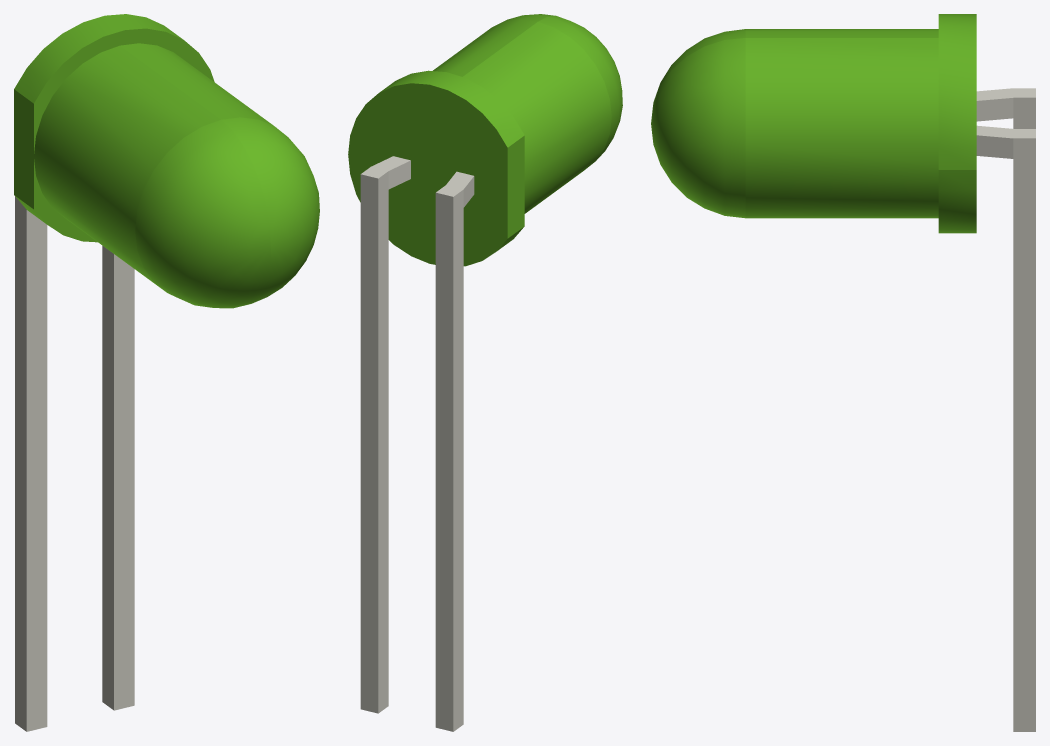
The model's file is kc-led_d5.0mm_horizontal_o1.27mm_z15.0mm.glb.
The picture shows the model from 3 angles, left to right: view 1: azimuth 30°, elevation 25°; view 2: azimuth 150°, elevation 25°; view 3: azimuth 270°, elevation 25°; orthographic projection. The views are drawn at different scales.
Parts seen in each view (by area): view 1: 0.16666666666666666_0.4166666666666667_0_0, 0.6666666666666666_0.6666666666666666_0.5833333333333334_0.8; view 2: 0.16666666666666666_0.4166666666666667_0_0, 0.6666666666666666_0.6666666666666666_0.5833333333333334_0.8; view 3: 0.16666666666666666_0.4166666666666667_0_0, 0.6666666666666666_0.6666666666666666_0.5833333333333334_0.8.
Part boxes in pixels (x1,y1,x2,y2): 0.16666666666666666_0.4166666666666667_0_0: [14, 14, 319, 308]; 0.6666666666666666_0.6666666666666666_0.5833333333333334_0.8: [15, 196, 134, 731]; 0.16666666666666666_0.4166666666666667_0_0: [348, 14, 622, 266]; 0.6666666666666666_0.6666666666666666_0.5833333333333334_0.8: [360, 156, 474, 731]; 0.16666666666666666_0.4166666666666667_0_0: [651, 14, 976, 233]; 0.6666666666666666_0.6666666666666666_0.5833333333333334_0.8: [976, 88, 1035, 731].
Size of the model in its own units: 0.54 by 1.99 by 1.02.
